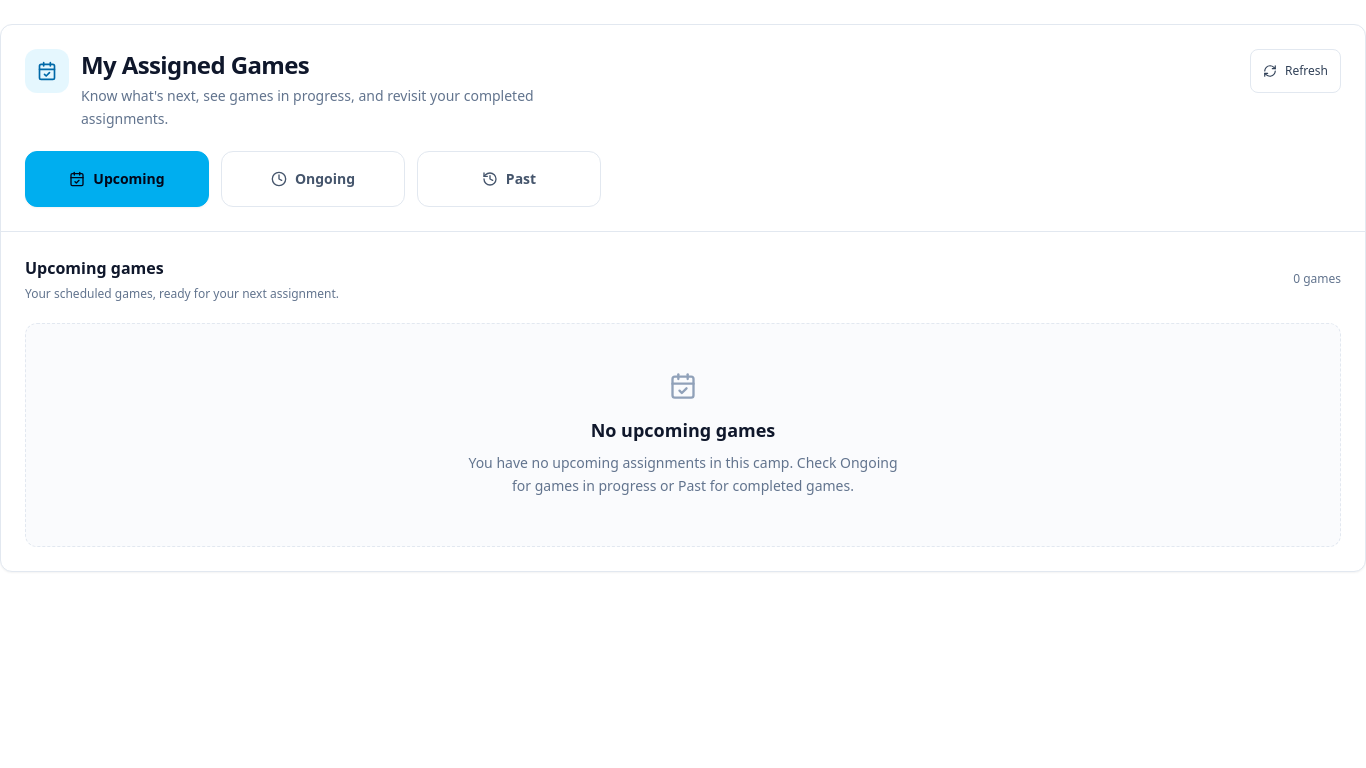
Test: MyGames status filters › keeps filters available for an empty Ongoing category
Click the button "Ongoing": (313, 178) x1=221 y1=150 x2=405 y2=206
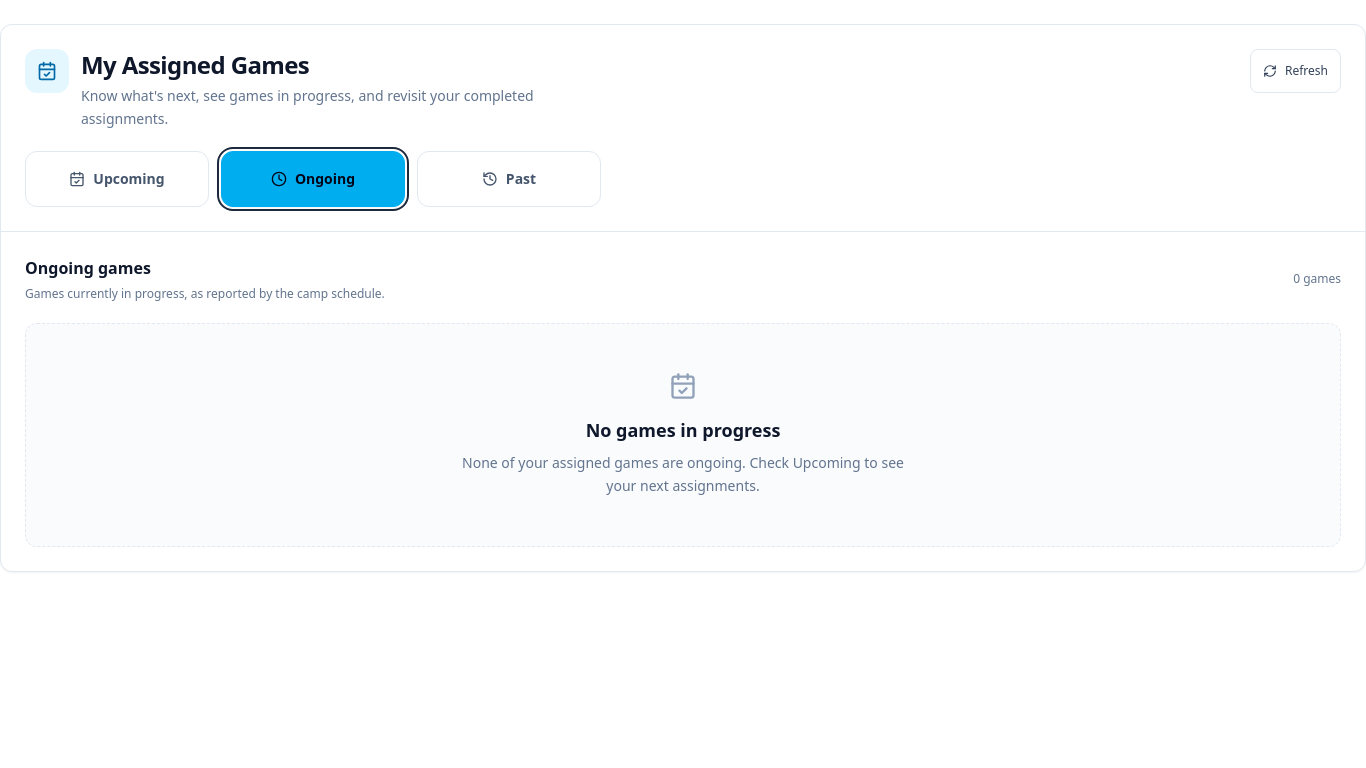
Expected: the button "Upcoming" is enabled, x1=25 y1=150 x2=209 y2=206
Now the heading "No games in progress" is shown, box x1=586 y1=418 x2=780 y2=442
